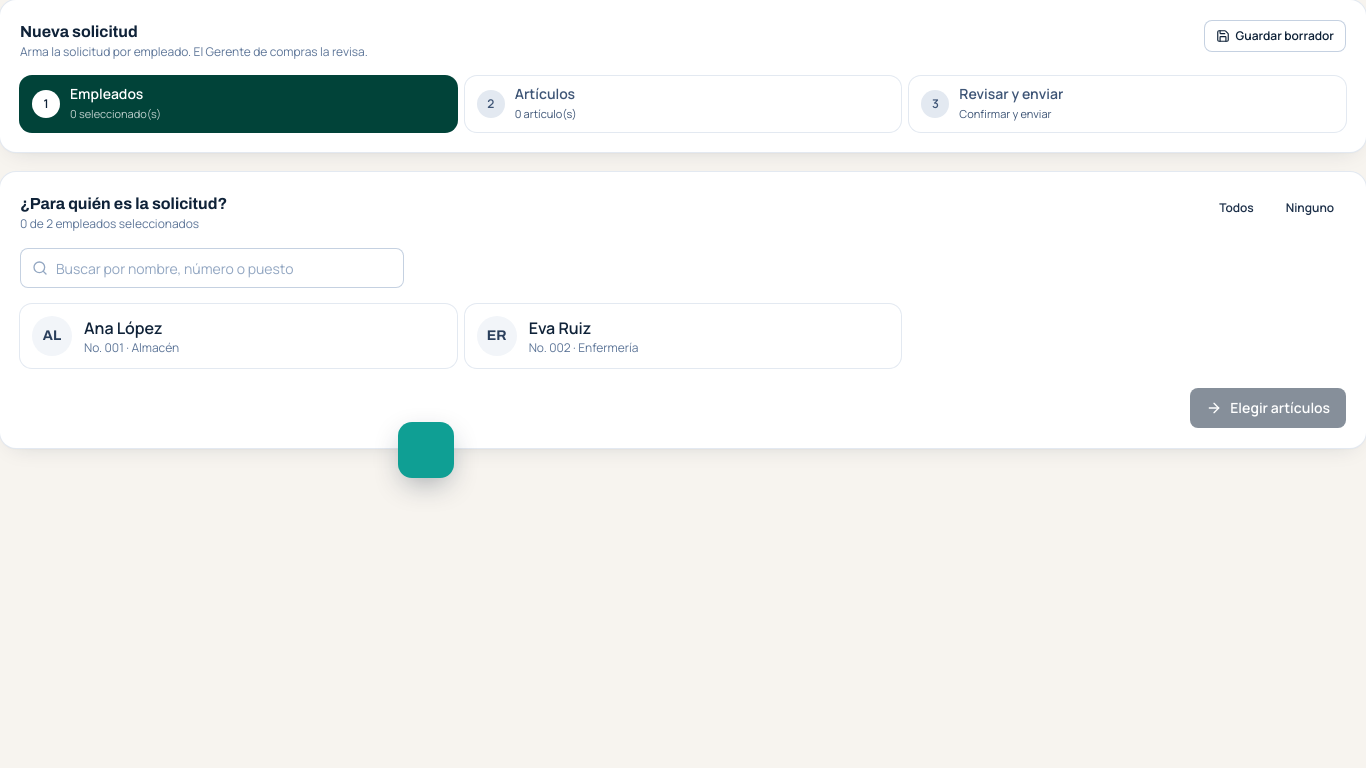
Test: selección de color y talla › un producto con un solo color no muestra el selector de color en el asistente
Click the button "AL Ana López No. 001 · Almacén" at (52, 336), box [20, 304, 457, 368]
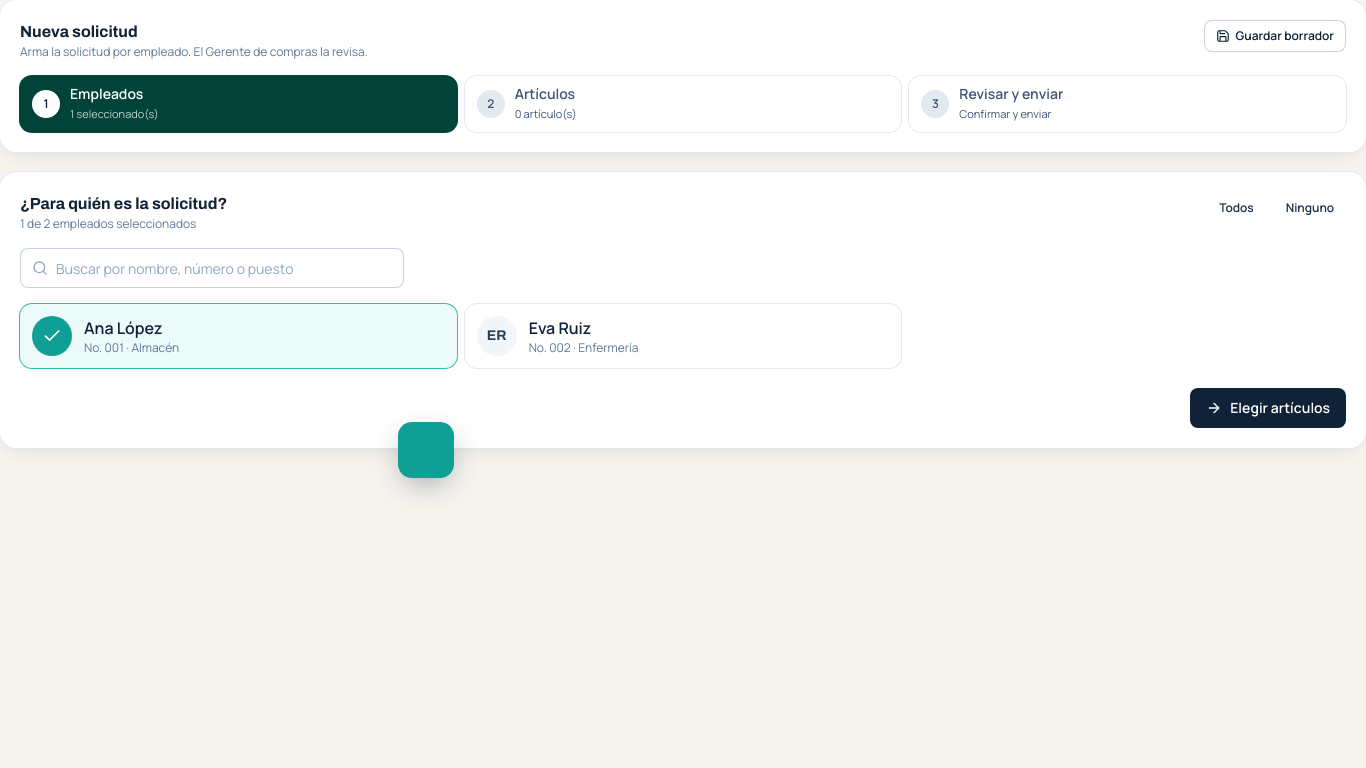
Click the button "Elegir artículos" at (1268, 408), box [1190, 388, 1346, 428]
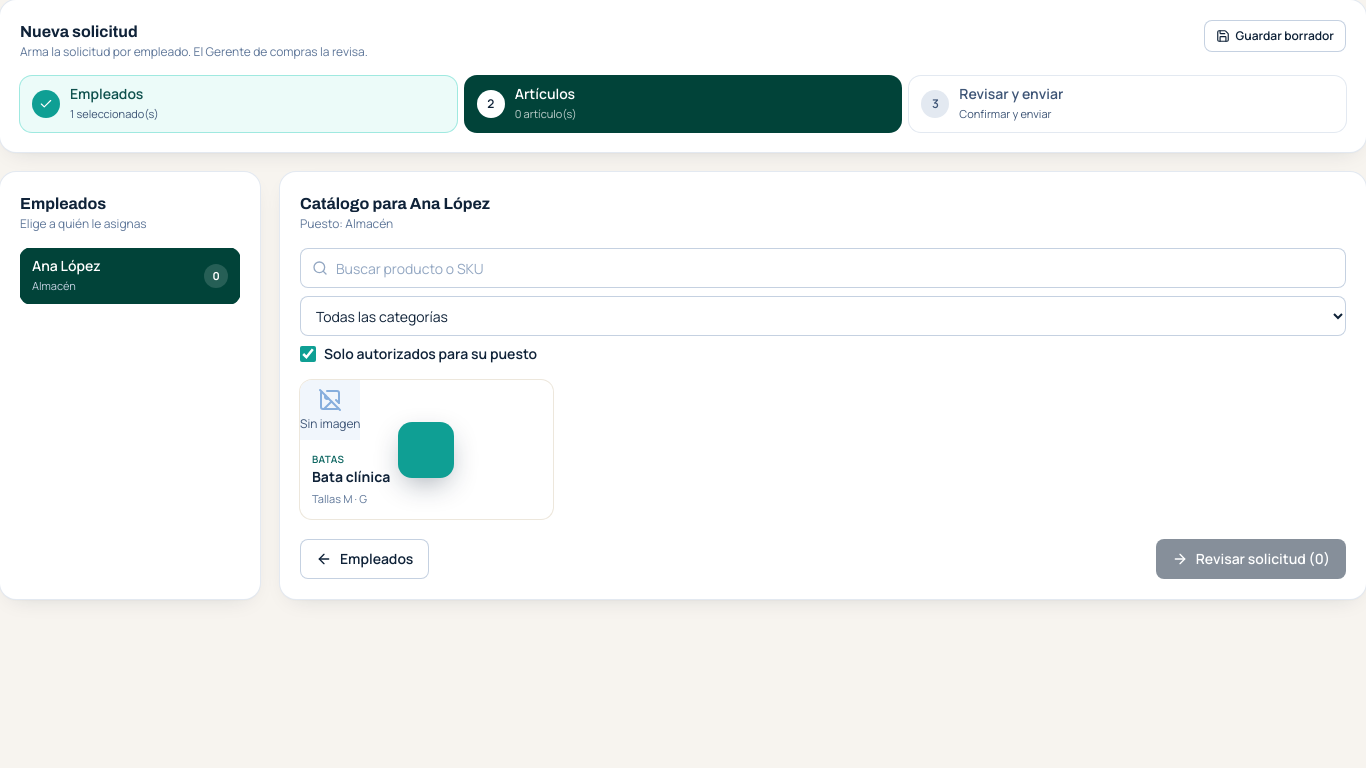
Click the button "Sin imagen Batas Bata clínica Tallas M · G" at (426, 450), box [300, 380, 552, 519]
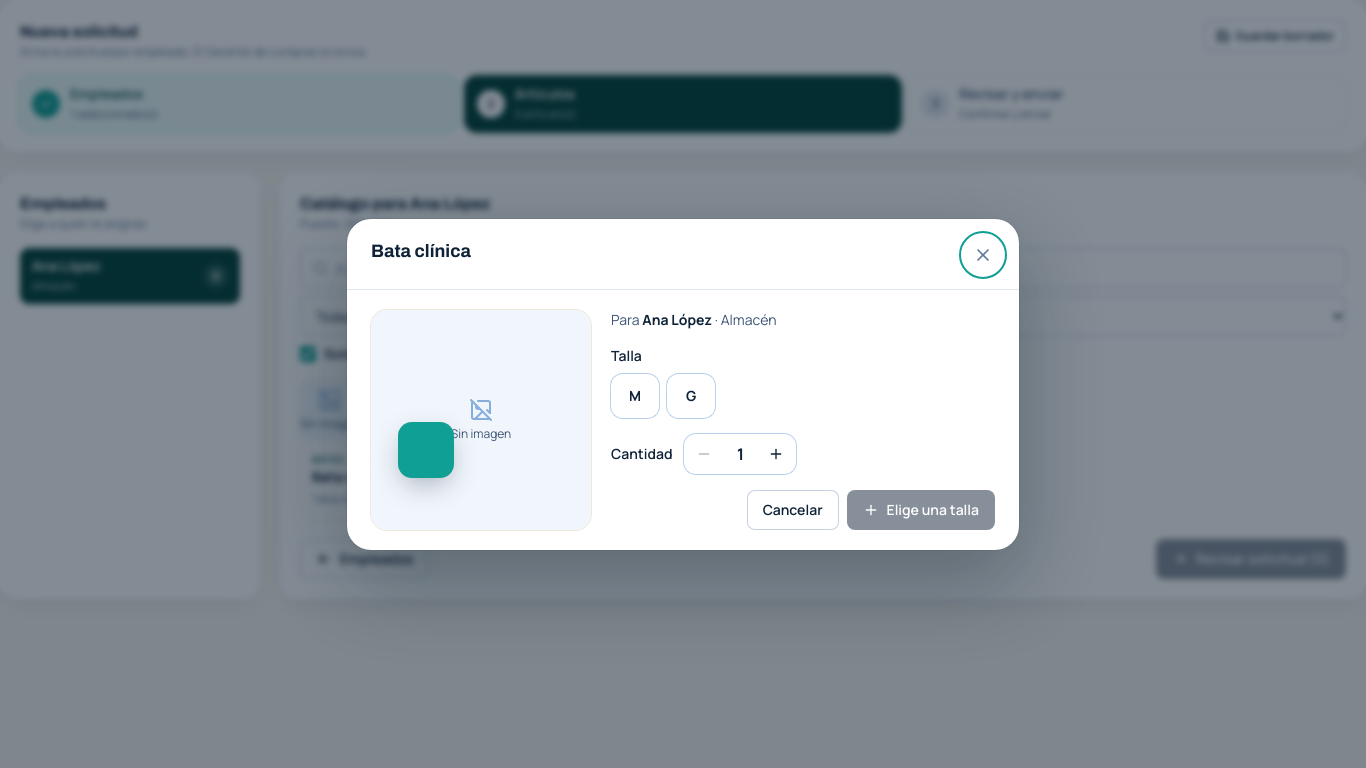
expect the button "M" is shown: met, box [611, 374, 659, 418]
